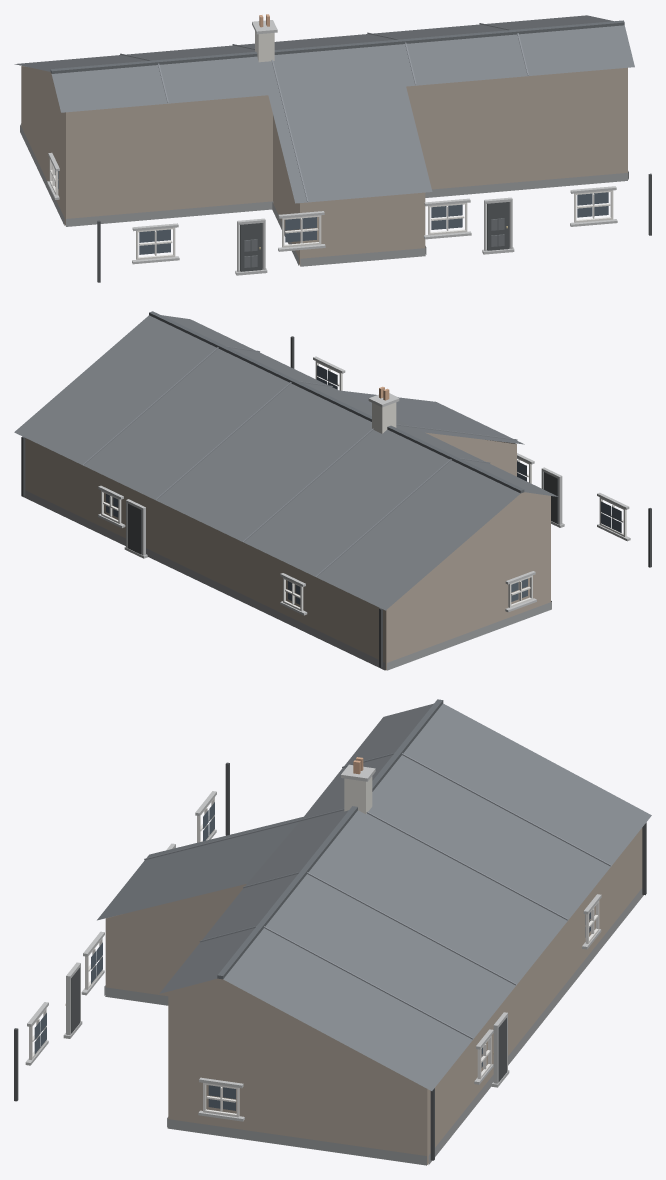
The picture shows the model from 3 angles, top to bottom: view 1: azimuth 30°, elevation 25°; view 2: azimuth 150°, elevation 25°; view 3: azimuth 270°, elevation 25°; orthographic projection. The views are drawn at different scales.
Visible parts, largest first — view 1: harl_brown, slate, plinth, stone_band, slate_dk, frame, door_dark, slate_lt, door_dark_p, chim_render, pipe; view 2: slate, harl_brown, plinth, stone_band, slate_dk, slate_lt, frame, door_dark, pipe, chim_render; view 3: slate, harl_brown, plinth, stone_band, slate_lt, slate_dk, frame, pipe, door_dark, chim_render.
Boxes of the visible parts, x1,y1,x2,y2 form: harl_brown: (21,66,627,265); slate: (14,15,634,203); plinth: (20,123,628,266); stone_band: (47,20,617,275); slate_dk: (50,20,624,73); frame: (49,158,613,259); door_dark: (240,202,509,271); slate_lt: (120,23,528,201); door_dark_p: (244,218,504,267); chim_render: (255,31,274,62); pipe: (97,173,651,282); slate: (14,315,558,610); harl_brown: (25,432,550,670); plinth: (21,490,551,670); stone_band: (98,356,630,615); slate_dk: (149,311,524,493); slate_lt: (83,346,517,576); frame: (101,361,626,611); door_dark: (127,472,558,554); pipe: (21,336,651,667); chim_render: (372,402,396,433); slate: (97,703,651,1090); harl_brown: (105,828,642,1164); plinth: (104,888,643,1165); stone_band: (25,764,601,1121); slate_lt: (144,753,611,1039); slate_dk: (217,699,443,979); frame: (29,797,599,1117); pipe: (14,762,646,1160); door_dark: (71,968,506,1081); chim_render: (344,776,372,813).
Size of the model in its own units: 26.12 by 7.59 by 21.24.
